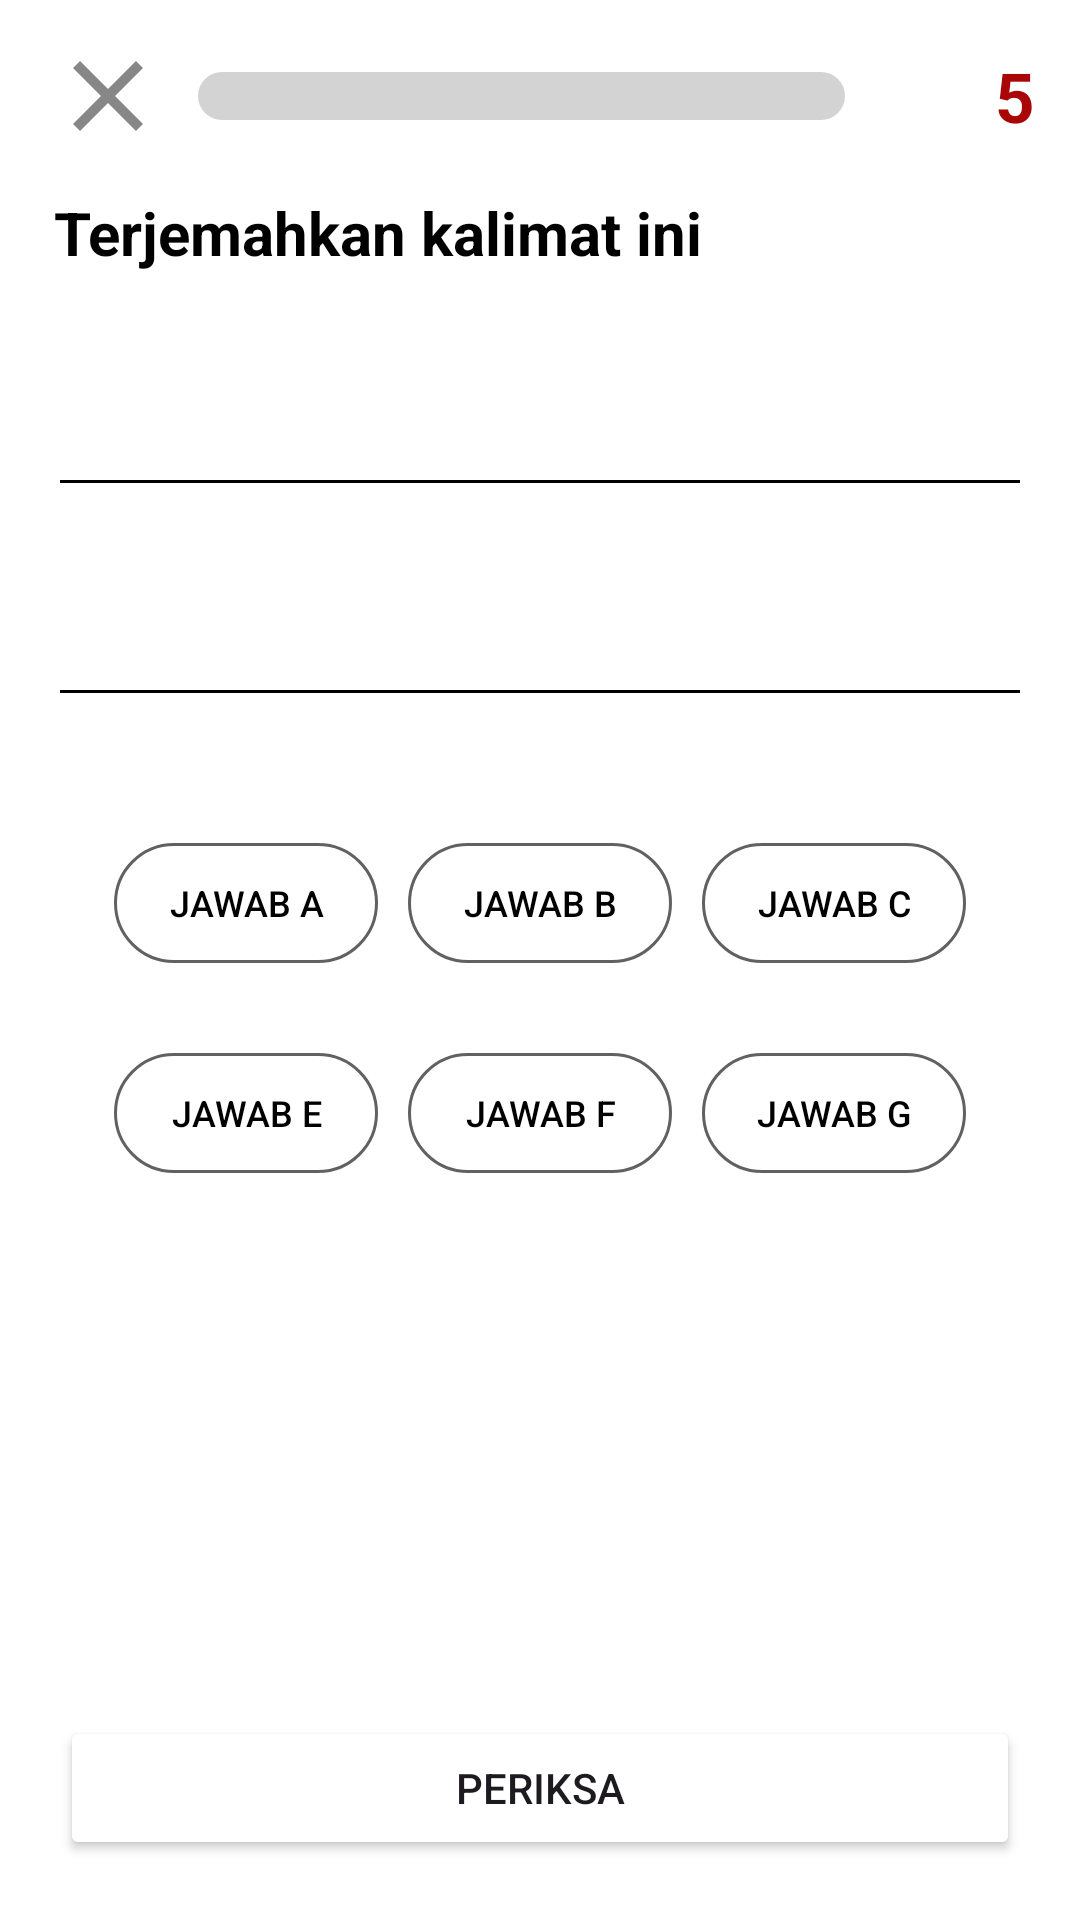

Named icons in this screenshot (1080*1920) and their bounding boxes, (x1, y1, x2, y2):
close: (73, 61, 143, 131)
